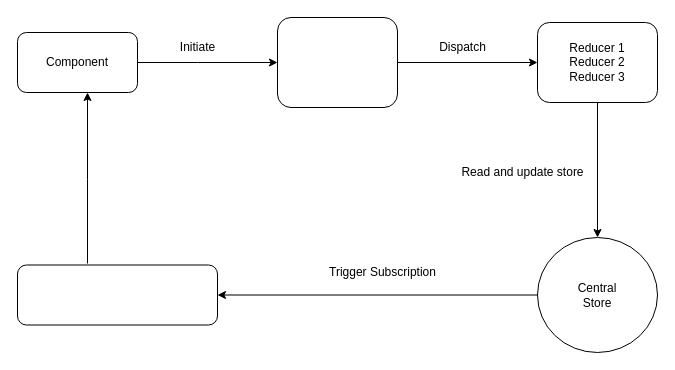
The diagram is 675 pixels wide and 370 high, and some of its shapes have lost their labels. The centre of each missing label's shape, as x and y in pixels:
Action { type: payload: }: [337,62]
Pass state as props mapStateToProps(): [117,294]
